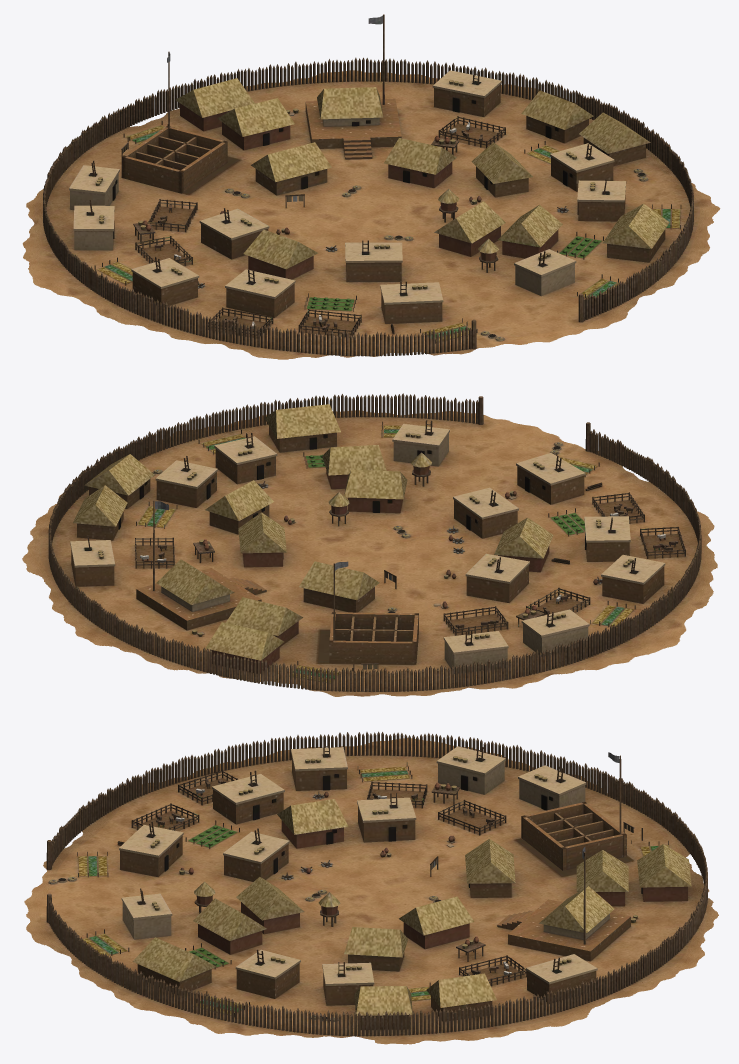
The model's file is stone-town-big-b-indic.glb.
The picture shows the model from 3 angles, top to bottom: view 1: azimuth 30°, elevation 25°; view 2: azimuth 150°, elevation 25°; view 3: azimuth 270°, elevation 25°; orthographic projection. The views are drawn at different scales.
Parts seen in each view (by area): view 1: LOD0; view 2: LOD0; view 3: LOD0.
Boxes of the visible parts, box(x1,y1,x2,y2) form: LOD0: box(22, 14, 720, 359); LOD0: box(22, 393, 717, 696); LOD0: box(24, 731, 718, 1044).
Size of what is drawn, in the model's own units: 8.04 by 1.25 by 7.72.
3 materials, 3 textured.
